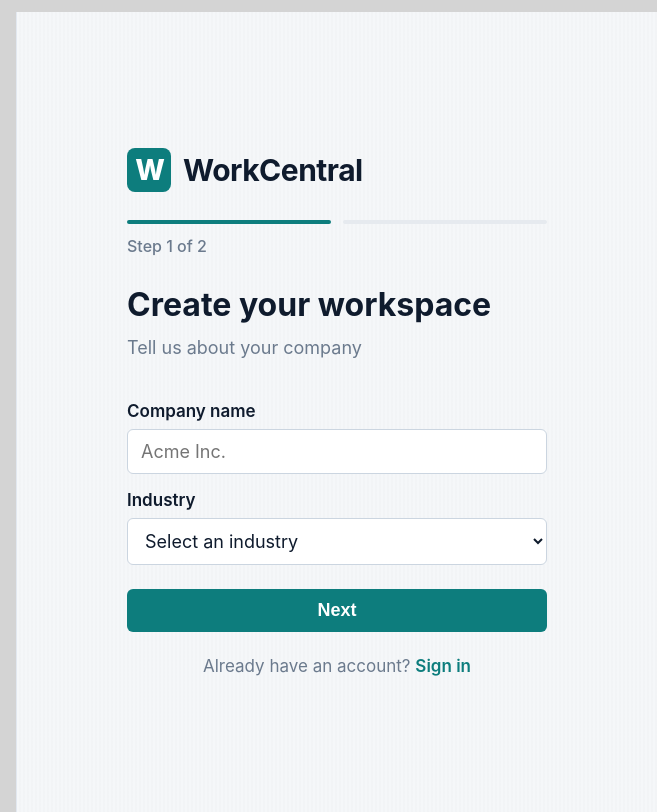
Test case: Register › advances to step 2 when Next is clicked with valid data
The width and height of the screenshot is (657, 812).
In the field with placeholder "Acme Inc.": (337, 451) [127,429,547,474], type "My Company"
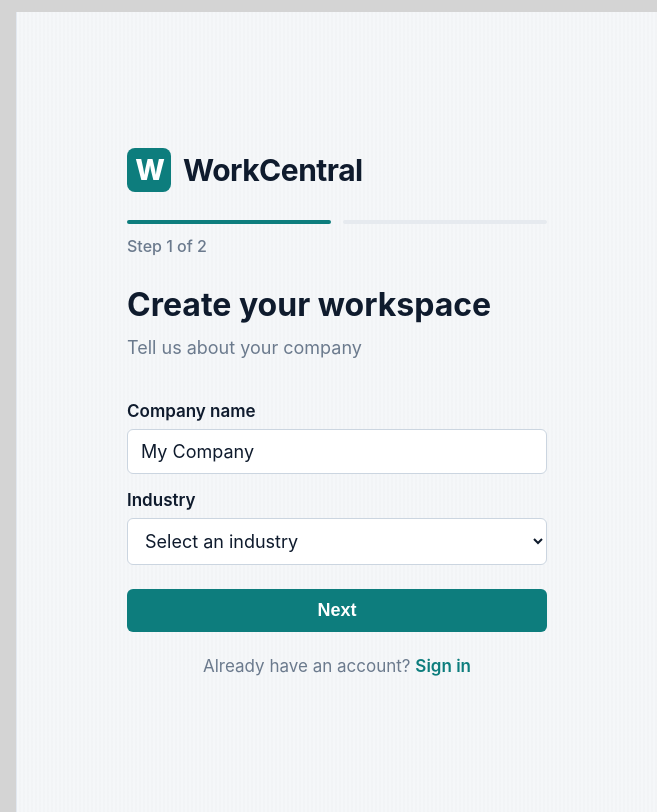
Select "Technology" in the dropdown: (337, 541) [127,518,547,565]
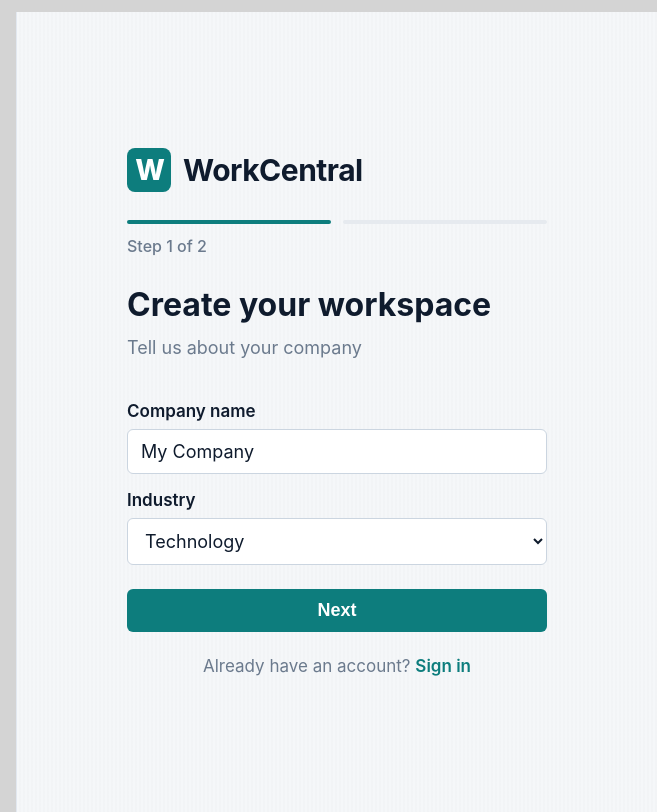
Click the button "Next": (337, 610) [127,589,547,632]
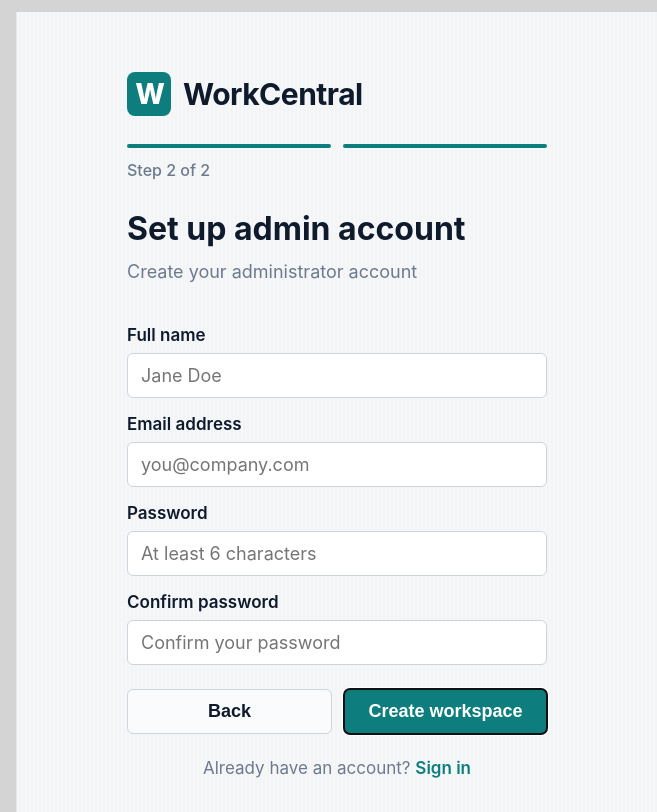
Expected: the text "Step 2 of 2" is shown, [127,160,210,180]
Expected: the heading "Set up admin account" is shown, [127,209,466,248]
